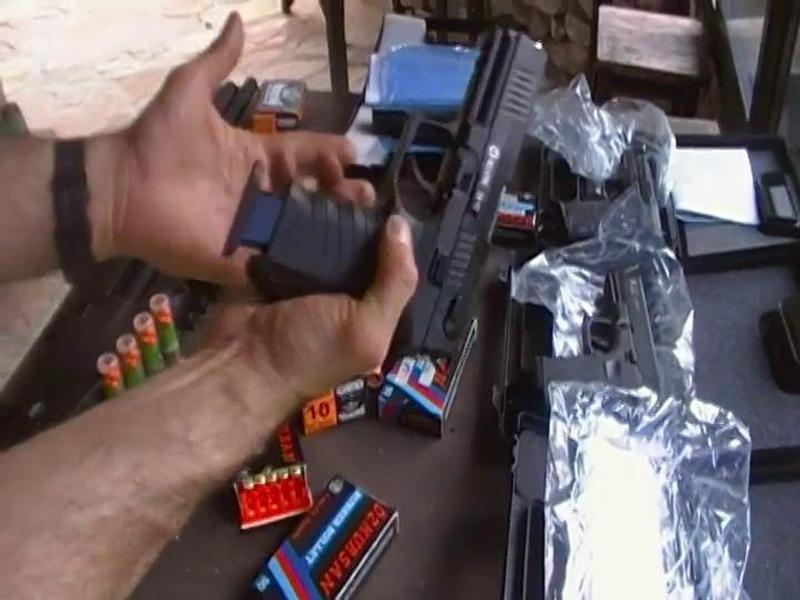Pistola: (264, 14, 564, 401)
